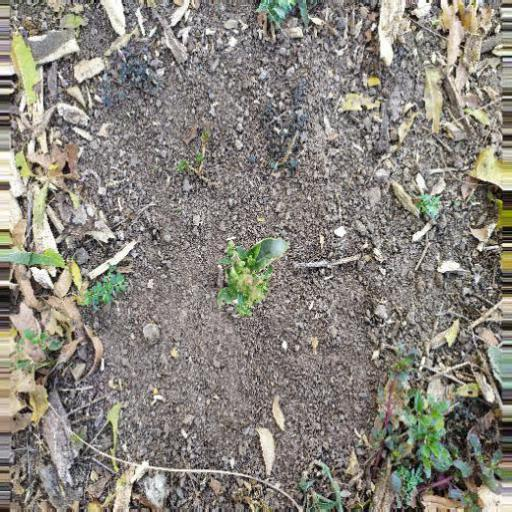weed: (205, 228, 290, 329)
